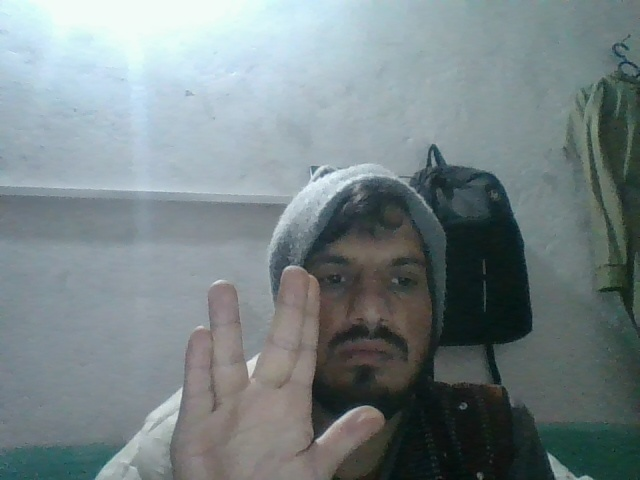LiveLong: (169, 264, 387, 474)
